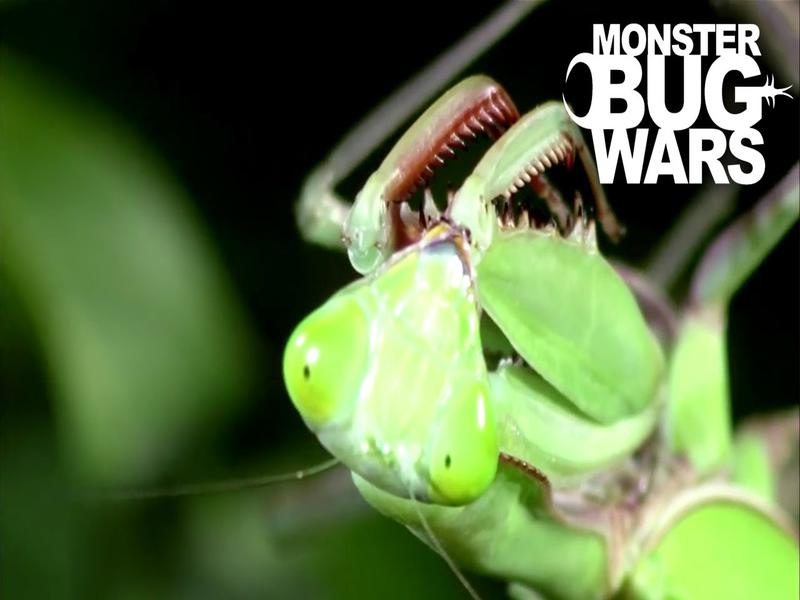Spiny_beetle: (276, 218, 647, 523)
